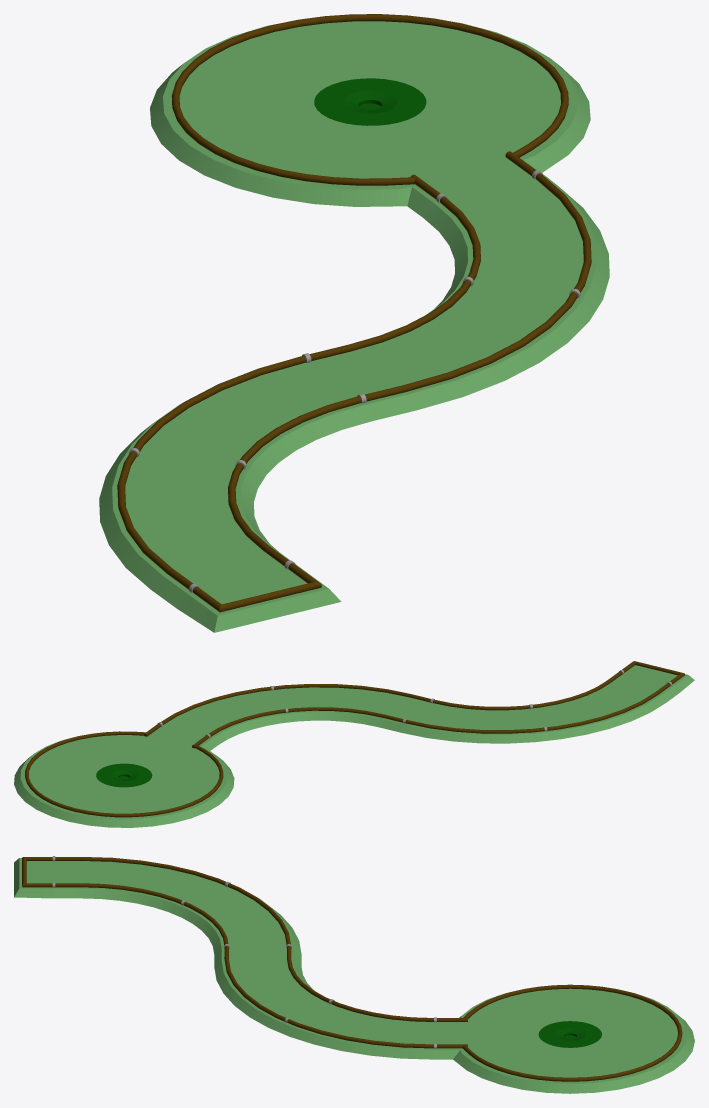
The model's file is Hole02.FBX.
The picture shows the model from 3 angles, top to bottom: view 1: azimuth 30°, elevation 25°; view 2: azimuth 150°, elevation 25°; view 3: azimuth 270°, elevation 25°; orthographic projection. The views are drawn at different scales.
Parts seen in each view (by area): view 1: Course02; view 2: Course02; view 3: Course02.
Part boxes in pixels (x1,y1,x2,y2): Course02: [99, 14, 609, 632]; Course02: [14, 661, 694, 827]; Course02: [14, 856, 694, 1093].
Bounding box in the file's own units: 3748 × 78.27 × 4643.
